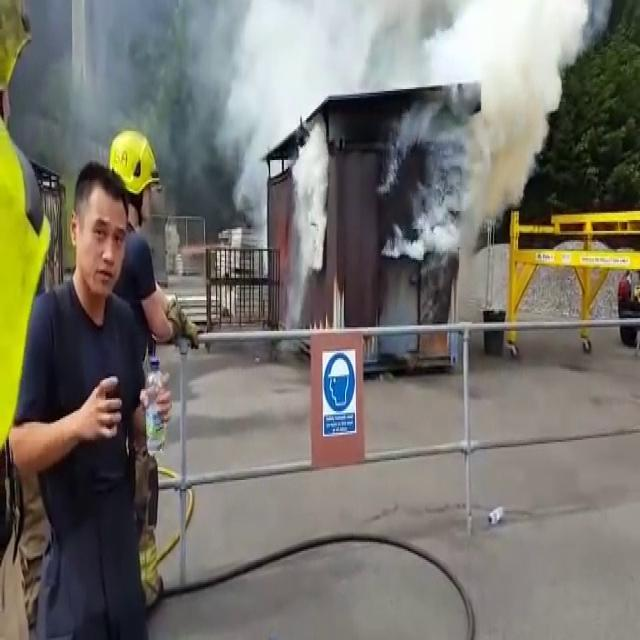Smoke: (231, 0, 580, 81), (463, 91, 541, 230)
